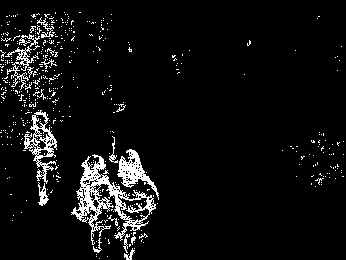person: (112, 148, 159, 260), (71, 154, 116, 260), (23, 110, 60, 208)
